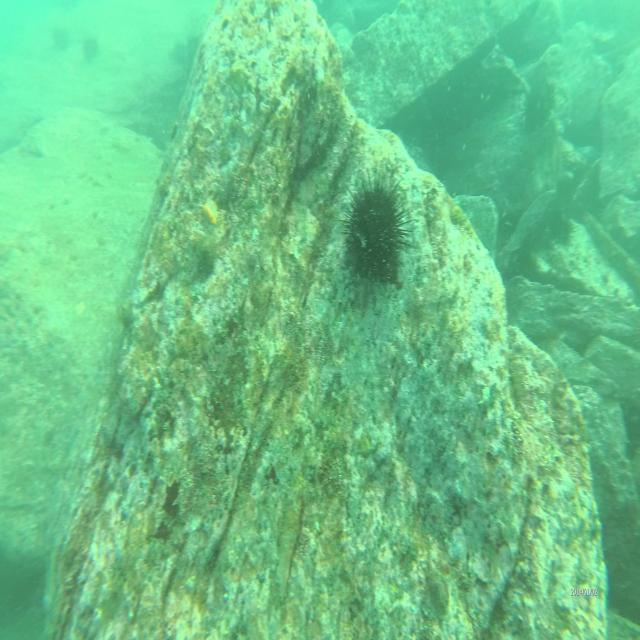echinus: (338, 173, 416, 285), (518, 86, 554, 137), (551, 212, 575, 247), (168, 37, 189, 65), (80, 30, 97, 60), (51, 24, 69, 51)
